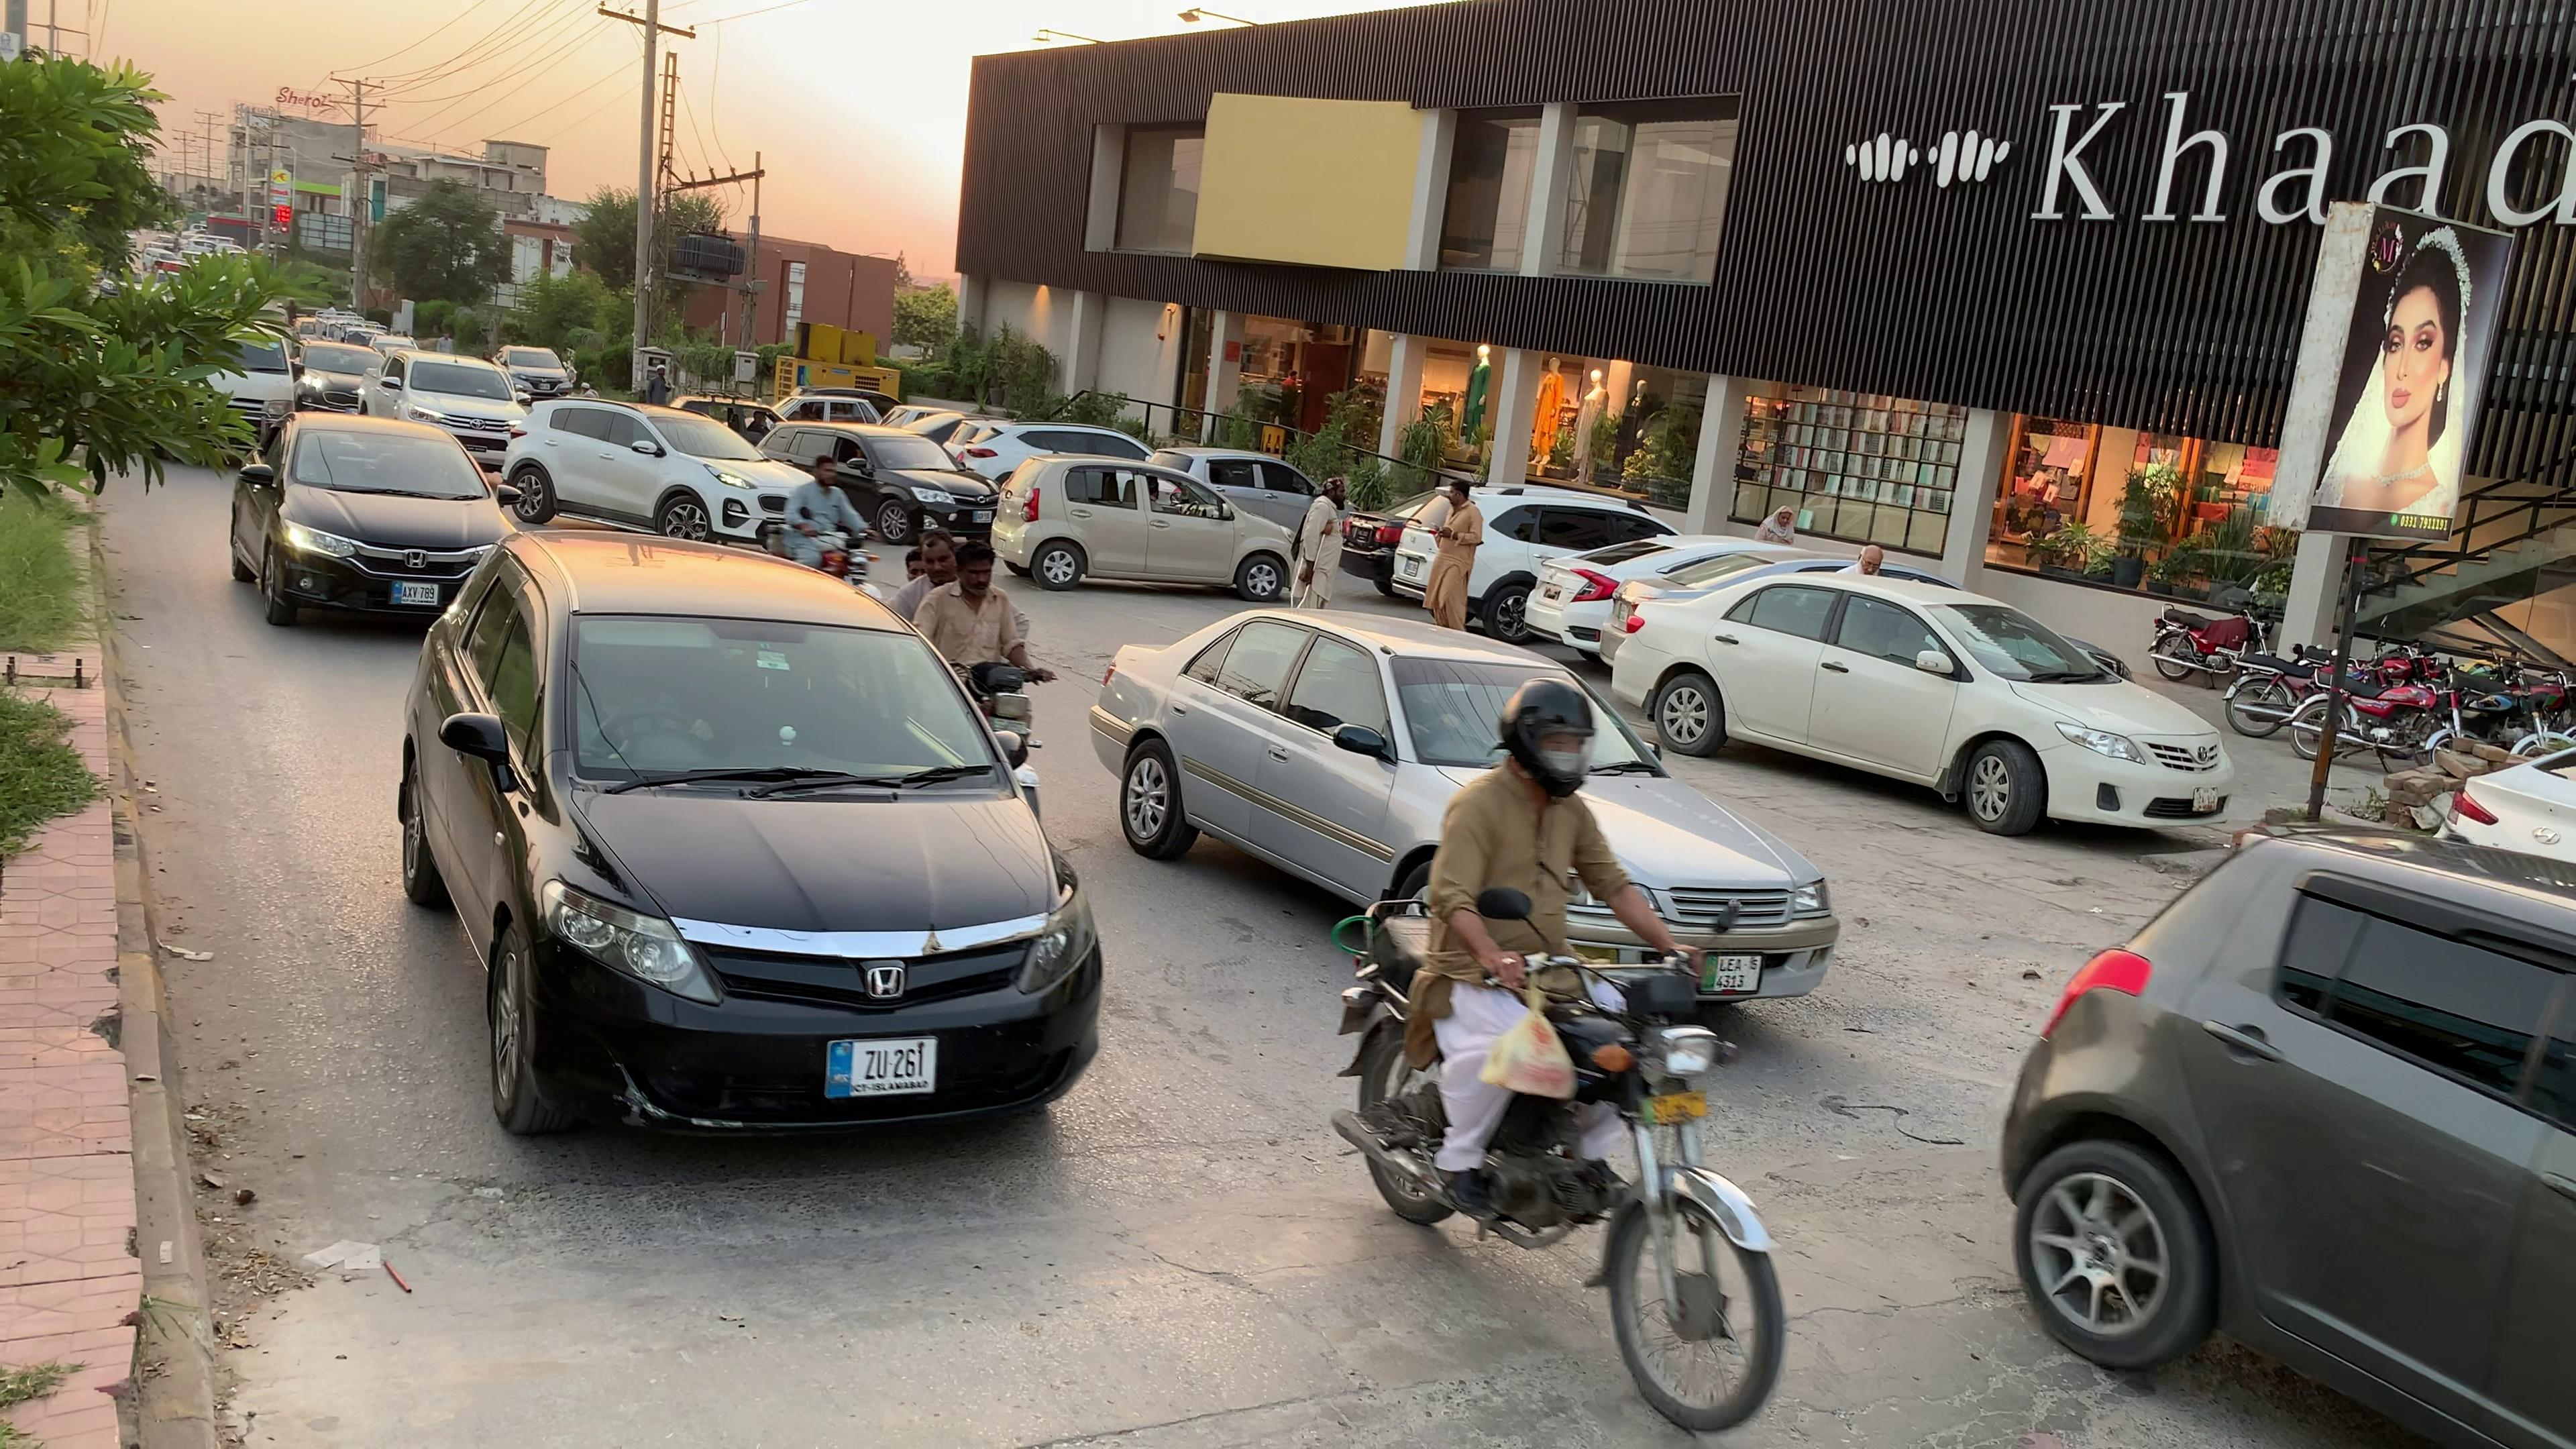windshield: (564, 614, 1010, 786), (290, 426, 485, 502)
